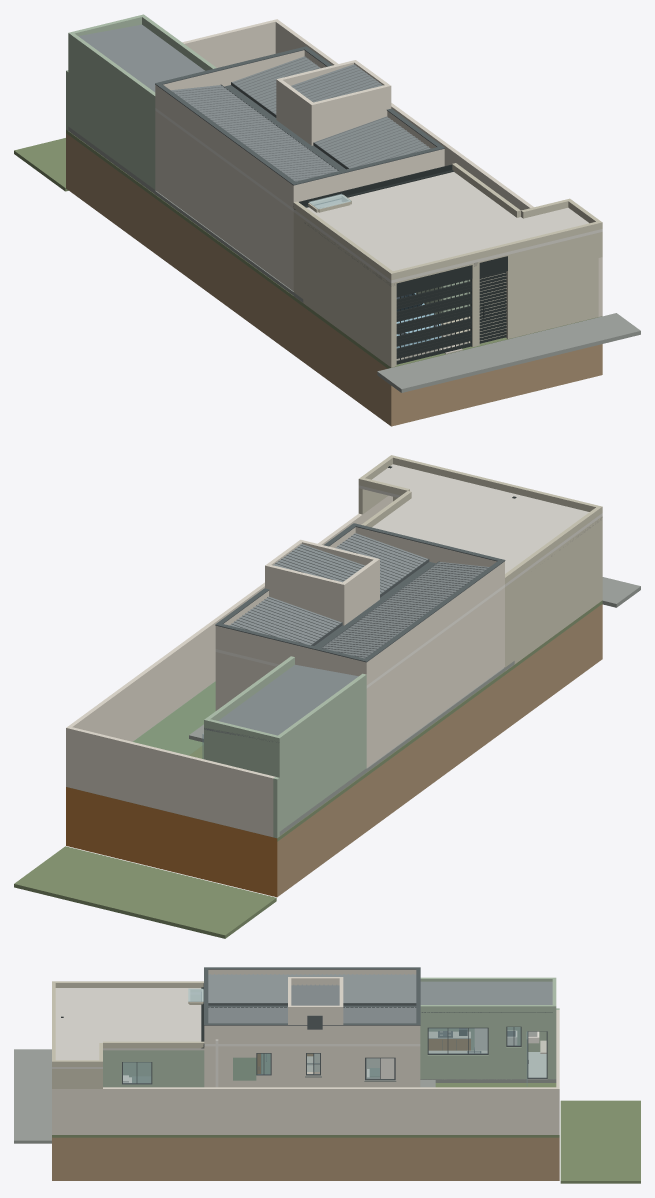
Rendered from casa-bp-frente-unificada-g03.glb.
The picture shows the model from 3 angles, top to bottom: view 1: azimuth 30°, elevation 25°; view 2: azimuth 150°, elevation 25°; view 3: azimuth 270°, elevation 25°; orthographic projection. The views are drawn at different scales.
Visible parts, largest first — view 1: Solo em corte esquemático — perfil lateral não levantado, G03 — laje contínua até a entrada existente (×3), Parede cega / divisa do desenho, G03 — fechamento frontal após porta social, Garagem — fechamento lateral proposto; apoios independentes , Fundos — fechamento esquerdo proposto, Passeio público — contexto ilustrativo, Volume elevado caixa d’água (×2), Platibanda frente / fundo (×2), Pano 1 — social, Fundos — cobertura independente ilustrativa, G03 — platibanda do conjunto frontal (×3) (+18 smaller); view 2: Solo em corte esquemático — perfil lateral não levantado, Face indicativa de contenção — 2 m estimados; seção e fundaç, Muro fundos — 2,00 m sobre terreno, G03 — laje contínua até a entrada existente (×3), Referência do nível do vizinho — extensão apenas ilustrativa, Parede cega / divisa do desenho, Muro lateral direito do desenho — 2,00 m, Garagem — fechamento lateral proposto; apoios independentes , Fundos — fechamento esquerdo proposto, Fundos — cobertura independente ilustrativa, Platibanda frente / fundo (×2), Volume elevado caixa d’água (×2) (+18 smaller); view 3: Muro lateral direito do desenho — 2,00 m, Solo em corte esquemático — perfil lateral não levantado, G03 — laje contínua até a entrada existente (×3), Referência do nível do vizinho — extensão apenas ilustrativa, Lateral existente — só janela do quarto reorganizada em A (×5), Platibanda lateral (×2), Pano 1 — social, Passeio público — contexto ilustrativo, Fundos — fechamento direito da cozinha (×4), Fundos — cobertura independente ilustrativa, Suíte ampliada — lateral para o corredor (×3), G03 — platibanda do conjunto frontal (×4) (+19 smaller).
Boxes of the visible parts, <box> form: Solo em corte esquemático — perfil lateral não levantado: <box>66,133,602,426</box>; G03 — laje contínua até a entrada existente (×3): <box>302,172,602,283</box>; Parede cega / divisa do desenho: <box>155,111,293,290</box>; G03 — fechamento frontal após porta social: <box>506,233,598,338</box>; Garagem — fechamento lateral proposto; apoios independentes : <box>304,220,395,367</box>; Fundos — fechamento esquerdo proposto: <box>68,47,155,189</box>; Passeio público — contexto ilustrativo: <box>377,313,640,392</box>; Volume elevado caixa d’água (×2): <box>276,78,387,145</box>; Platibanda frente / fundo (×2): <box>163,50,440,201</box>; Pano 1 — social: <box>171,85,337,181</box>; Fundos — cobertura independente ilustrativa: <box>78,24,204,92</box>; G03 — platibanda do conjunto frontal (×3): <box>293,163,602,280</box>; Solo em corte esquemático — perfil lateral não levantado: <box>277,604,602,896</box>; Face indicativa de contenção — 2 m estimados; seção e fundaç: <box>66,787,277,897</box>; Muro fundos — 2,00 m sobre terreno: <box>70,727,275,837</box>; G03 — laje contínua até a entrada existente (×3): <box>358,464,602,580</box>; Referência do nível do vizinho — extensão apenas ilustrativa: <box>14,846,276,938</box>; Parede cega / divisa do desenho: <box>366,587,504,767</box>; Muro lateral direito do desenho — 2,00 m: <box>66,495,392,787</box>; Garagem — fechamento lateral proposto; apoios independentes : <box>515,516,602,663</box>; Fundos — fechamento esquerdo proposto: <box>275,689,366,831</box>; Fundos — cobertura independente ilustrativa: <box>204,664,358,742</box>; Platibanda frente / fundo (×2): <box>219,527,496,676</box>; Volume elevado caixa d’água (×2): <box>269,558,379,625</box>; Muro lateral direito do desenho — 2,00 m: <box>52,1087,559,1134</box>; Solo em corte esquemático — perfil lateral não levantado: <box>52,1137,559,1180</box>; G03 — laje contínua até a entrada existente (×3): <box>52,988,204,1068</box>; Referência do nível do vizinho — extensão apenas ilustrativa: <box>560,1100,640,1183</box>; Lateral existente — só janela do quarto reorganizada em A (×5): <box>204,1046,420,1087</box>; Platibanda lateral (×2): <box>204,969,420,1043</box>; Pano 1 — social: <box>208,974,416,1002</box>; Passeio público — contexto ilustrativo: <box>14,1049,51,1143</box>; Fundos — fechamento direito da cozinha (×4): <box>420,1017,496,1079</box>; Fundos — cobertura independente ilustrativa: <box>420,981,552,1004</box>; Suíte ampliada — lateral para o corredor (×3): <box>103,1050,204,1087</box>; G03 — platibanda do conjunto frontal (×4): <box>52,981,204,1066</box>.
Bounding box in the file's own units: 8.5 × 6.68 × 24.7.
